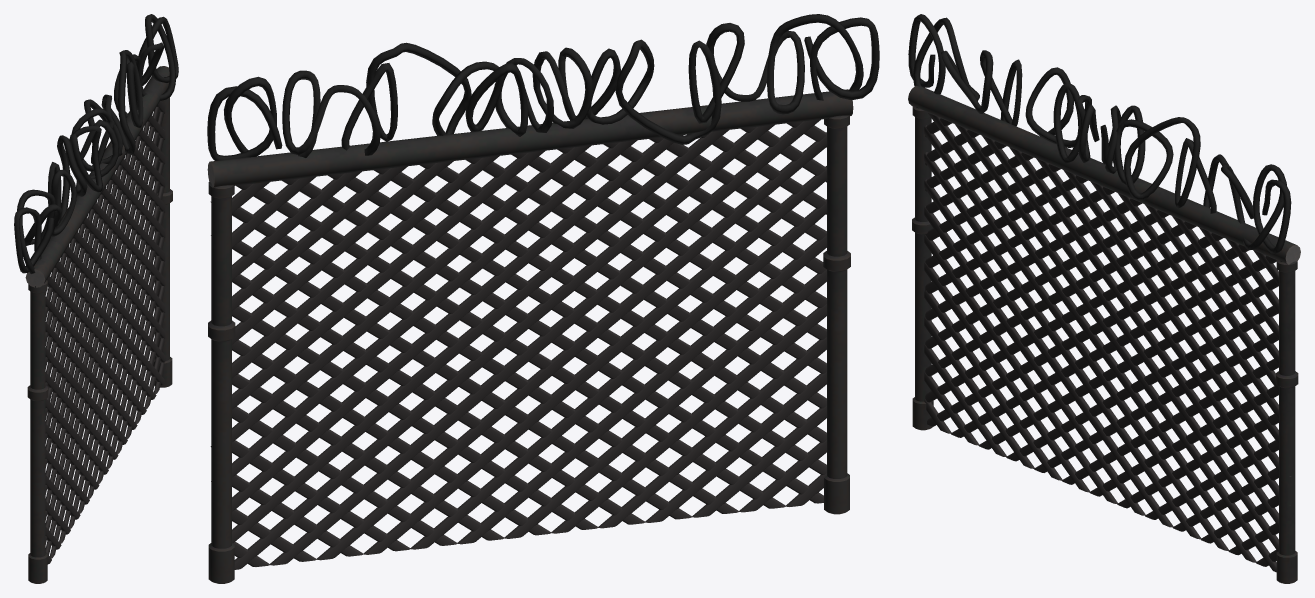
The model's file is Fence.fbx.
3 renders of one model, left to right at view 1: azimuth 30°, elevation 25°; view 2: azimuth 150°, elevation 25°; view 3: azimuth 270°, elevation 25°, orthographic. The views are drawn at different scales.
Parts seen in each view (by area): view 1: Fence_Full, fullFence4_001, fullFence3_001, fullFence1_001, fullFence_001, fullFence2_001; view 2: Fence_Full, fullFence_001, fullFence4_001, fullFence3_001, fullFence2_001, fullFence1_001; view 3: Fence_Full, fullFence3_001, fullFence_001, fullFence4_001, fullFence2_001, fullFence1_001.
Boxes of the visible parts, x1,y1,x2,y2 form: Fence_Full: [45, 100, 165, 564]; fullFence4_001: [14, 119, 119, 273]; fullFence3_001: [71, 14, 178, 171]; fullFence1_001: [27, 280, 48, 583]; fullFence_001: [25, 66, 169, 287]; fullFence2_001: [153, 97, 172, 387]; Fence_Full: [210, 119, 826, 569]; fullFence_001: [207, 89, 853, 187]; fullFence4_001: [532, 14, 879, 144]; fullFence3_001: [207, 42, 553, 160]; fullFence2_001: [208, 170, 235, 583]; fullFence1_001: [823, 101, 850, 514]; Fence_Full: [924, 113, 1291, 572]; fullFence3_001: [1100, 105, 1291, 253]; fullFence_001: [908, 85, 1300, 264]; fullFence4_001: [908, 14, 1099, 163]; fullFence2_001: [1276, 260, 1298, 583]; fullFence1_001: [912, 106, 933, 430].
Bounding box in the file's own units: 461 × 514 × 438.
